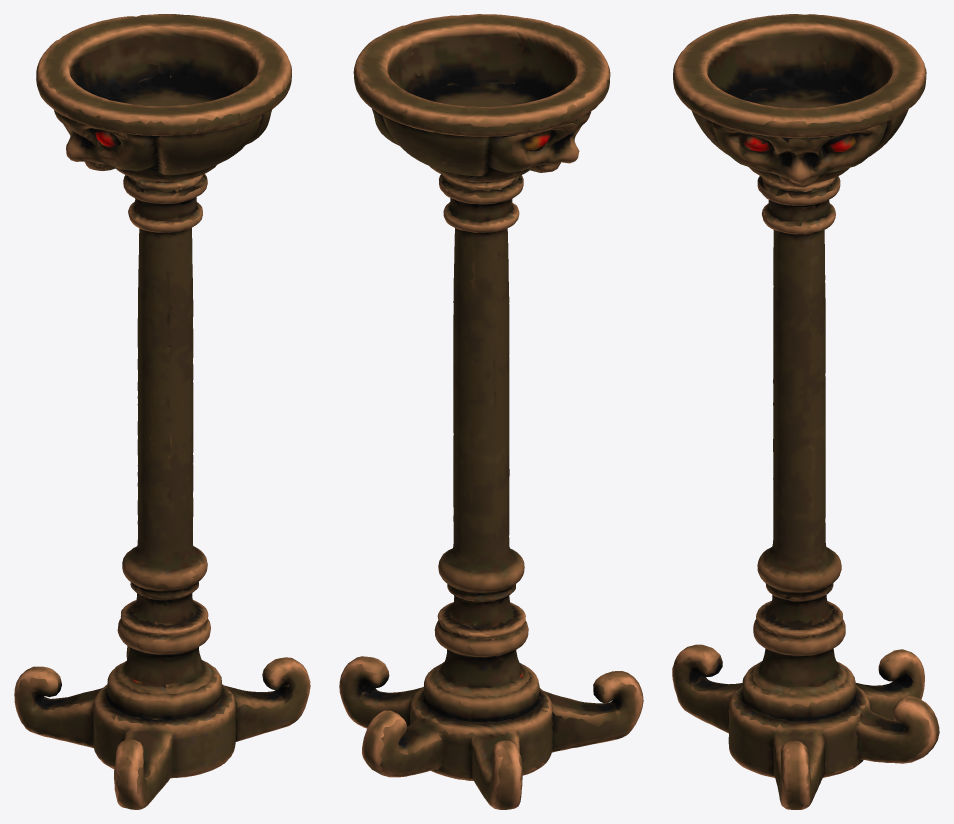
Rendered from TRED_stand_mesh.obj.
The picture shows the model from 3 angles, left to right: view 1: azimuth 30°, elevation 25°; view 2: azimuth 150°, elevation 25°; view 3: azimuth 270°, elevation 25°; orthographic projection.
Bounding box in the file's own units: 0.3879 × 1 × 0.3546.
Materials: 1 (1 with a texture image).
